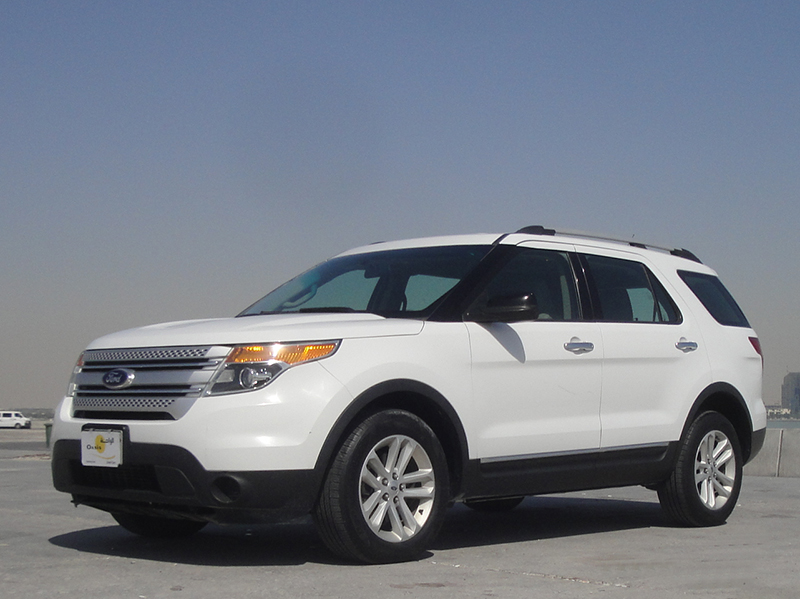other: (55, 225, 765, 558), (0, 407, 31, 431)
